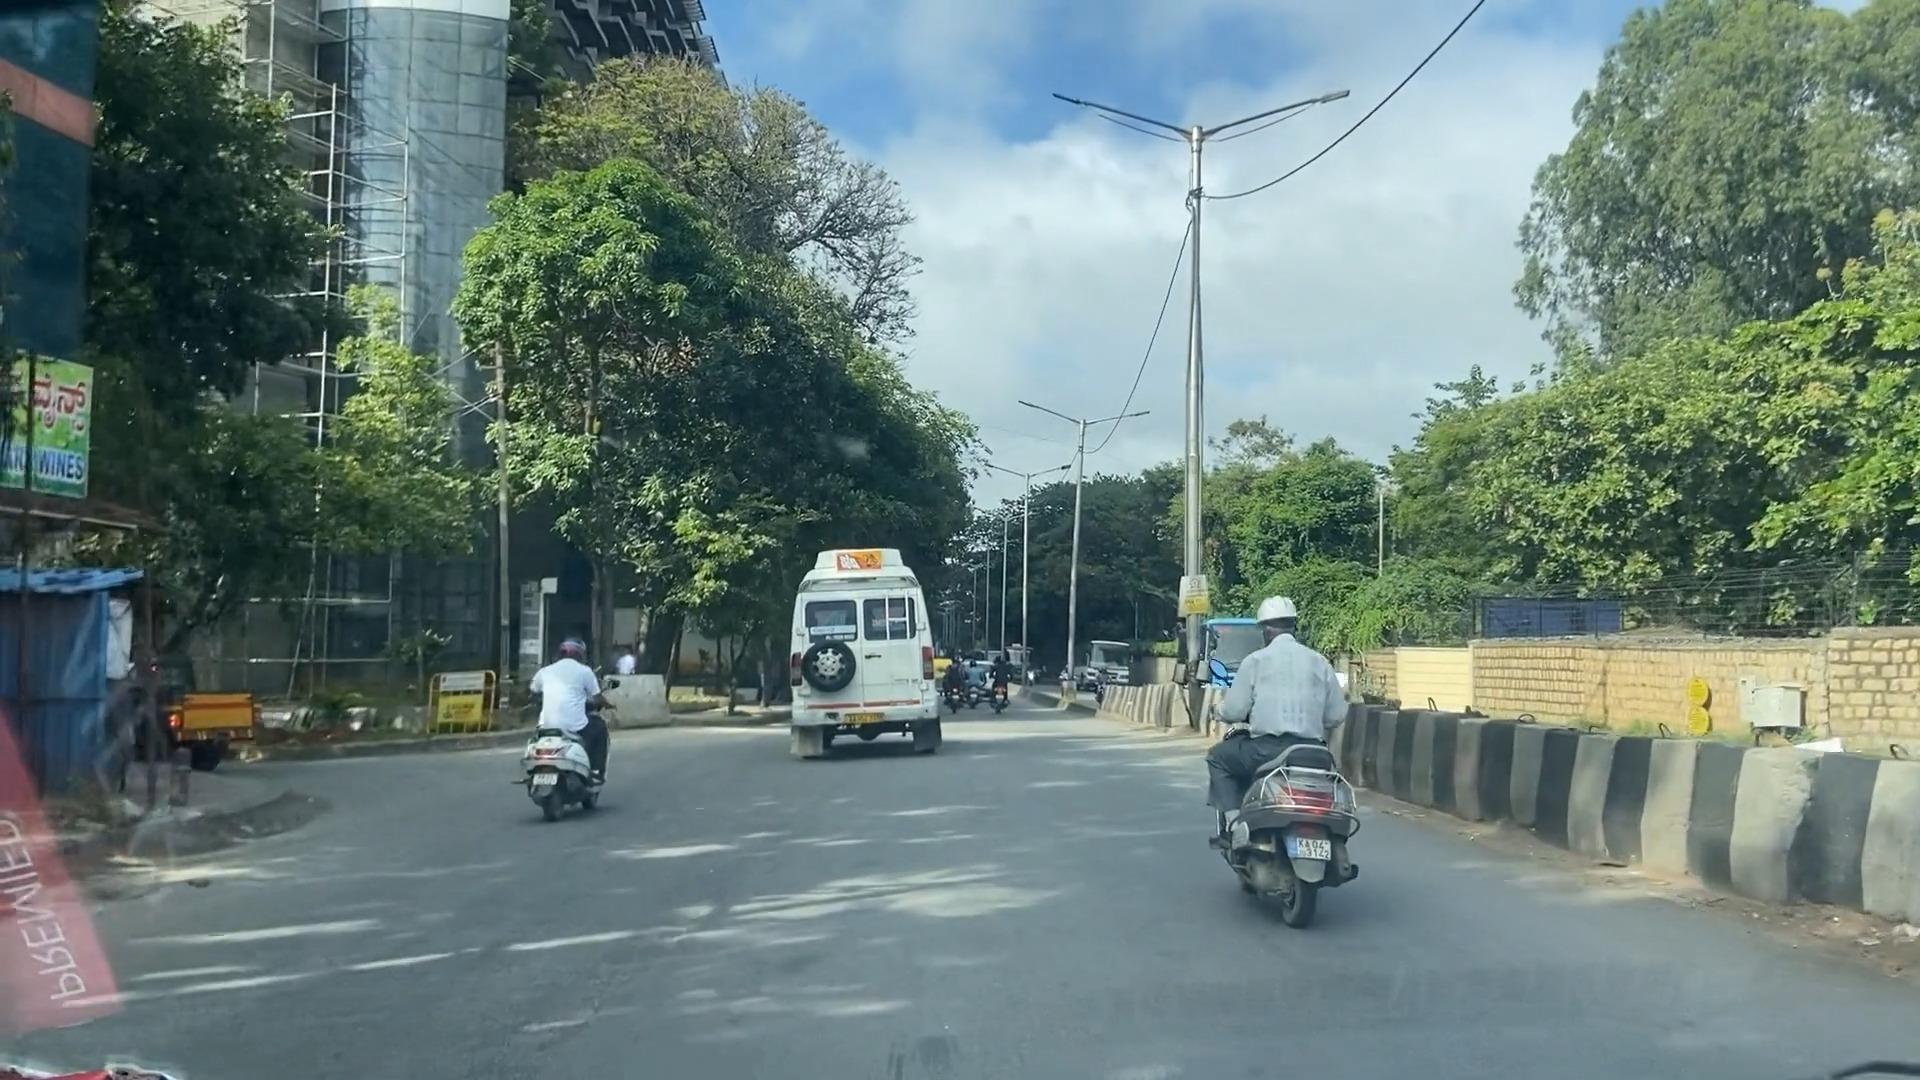HMV: (806, 558, 957, 769)
LMV: (1230, 588, 1373, 939), (527, 625, 617, 816)
